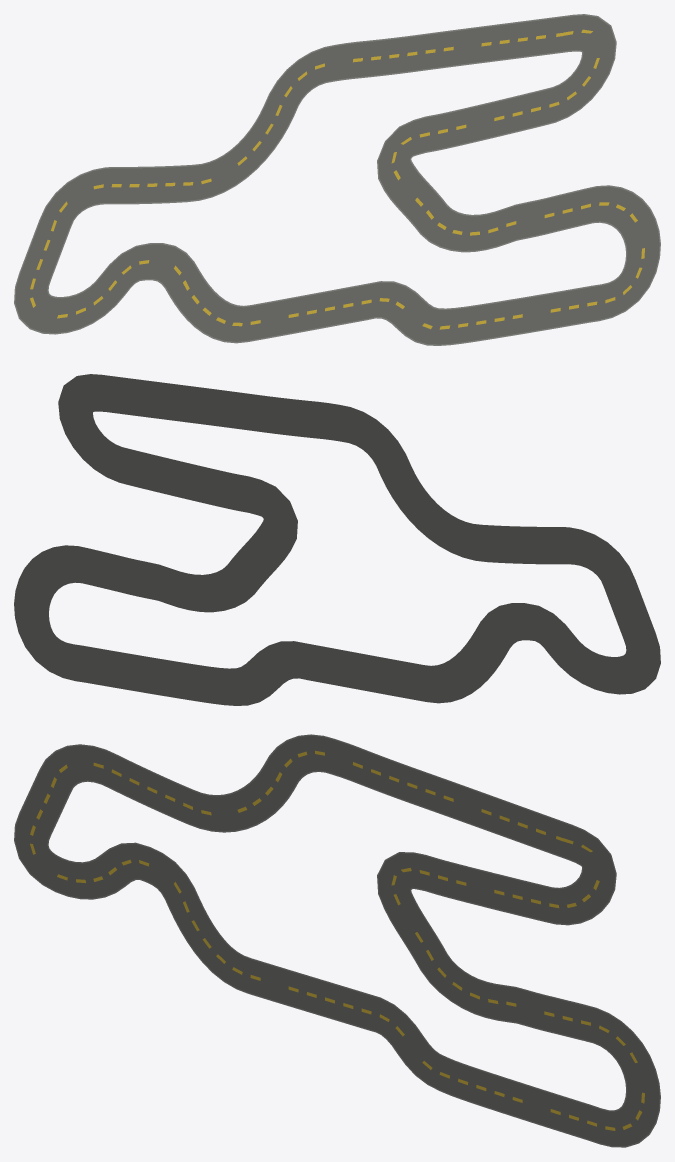
Rendered from track.obj.
The picture shows the model from 3 angles, top to bottom: view 1: azimuth 30°, elevation 25°; view 2: azimuth 150°, elevation 25°; view 3: azimuth 330°, elevation 25°; orthographic projection.
Size of the model in its own units: 19.79 by 9.98 by 0.002.
